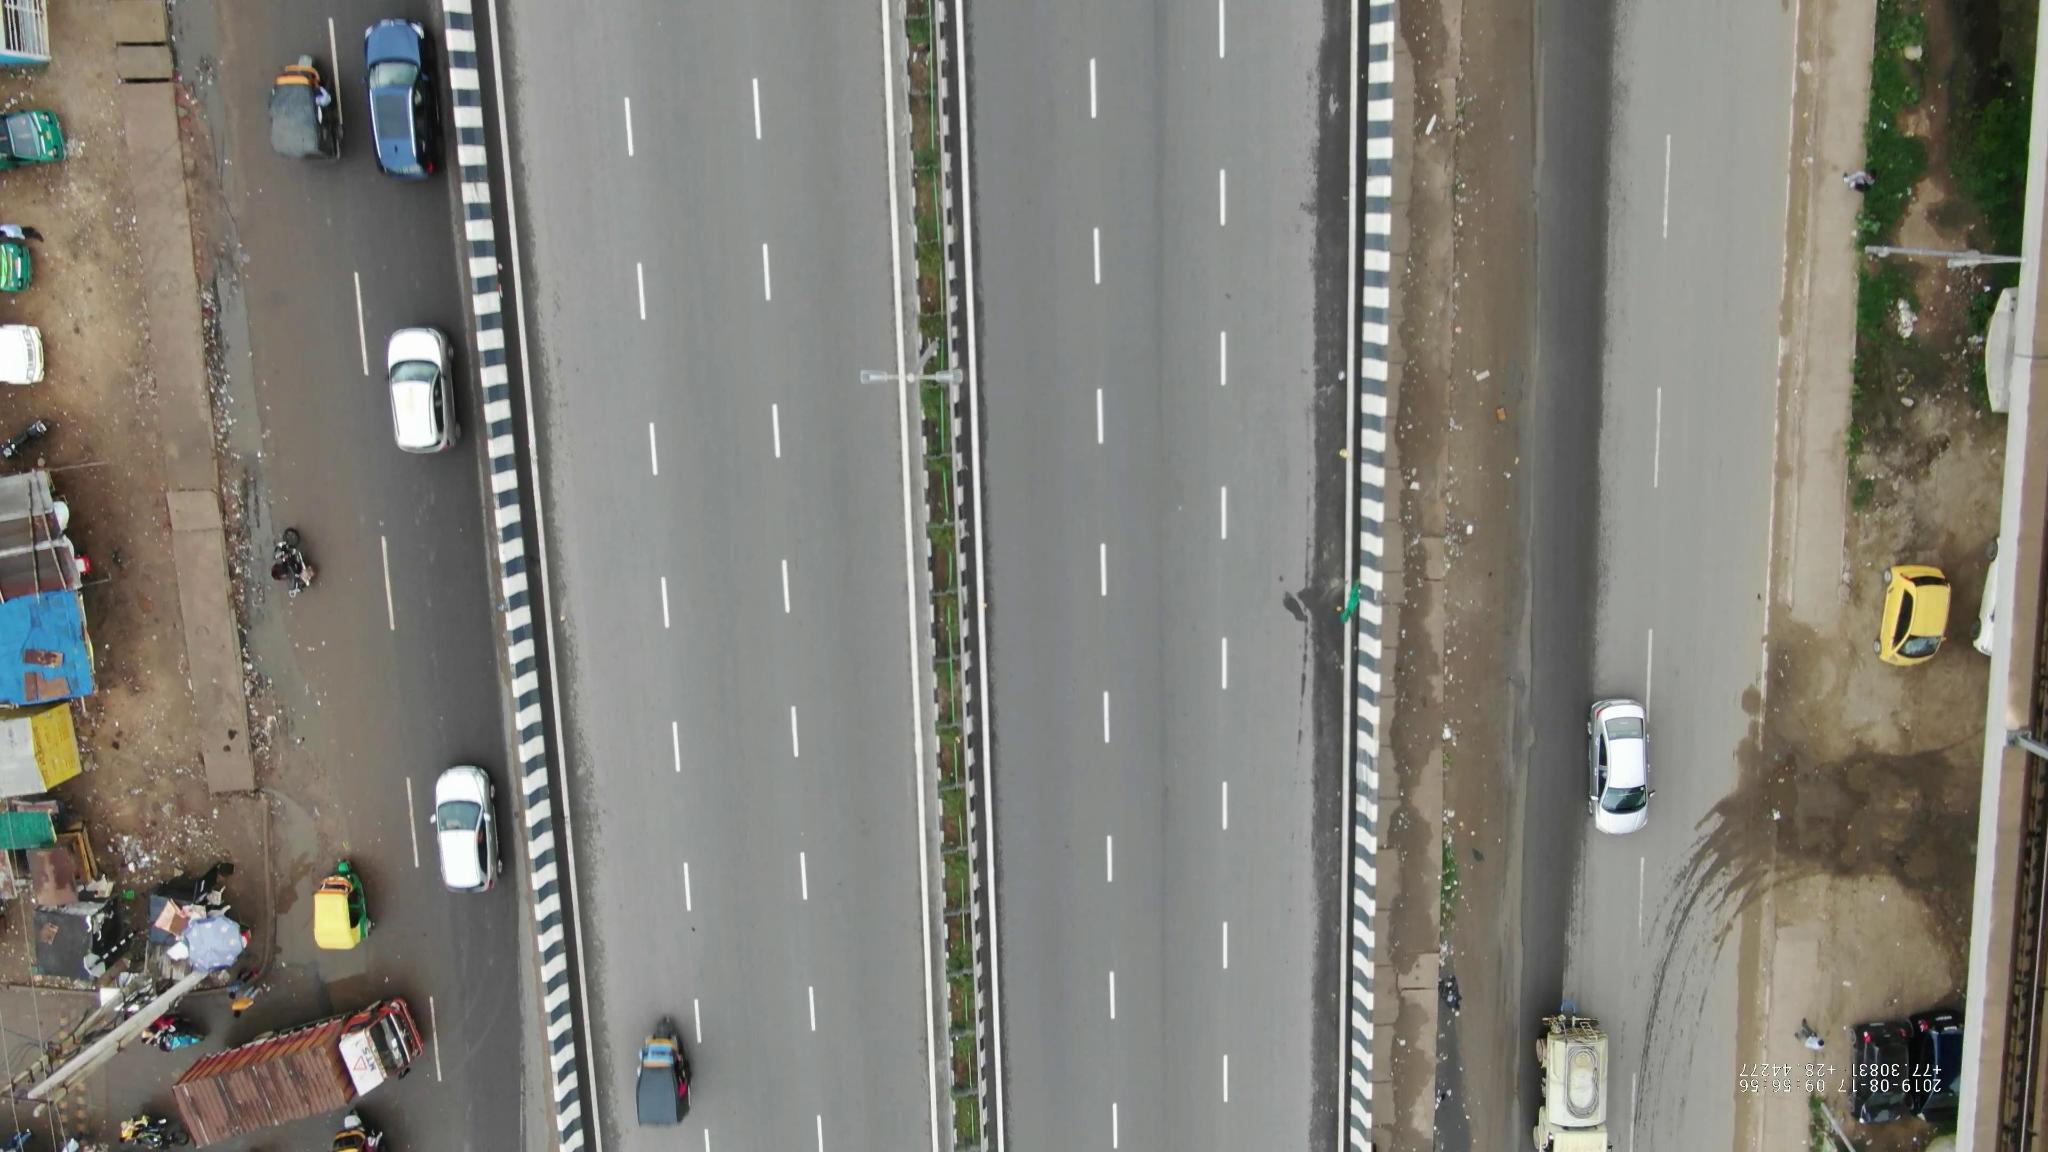Waterlogging: (194, 293, 321, 751), (170, 4, 250, 136)
